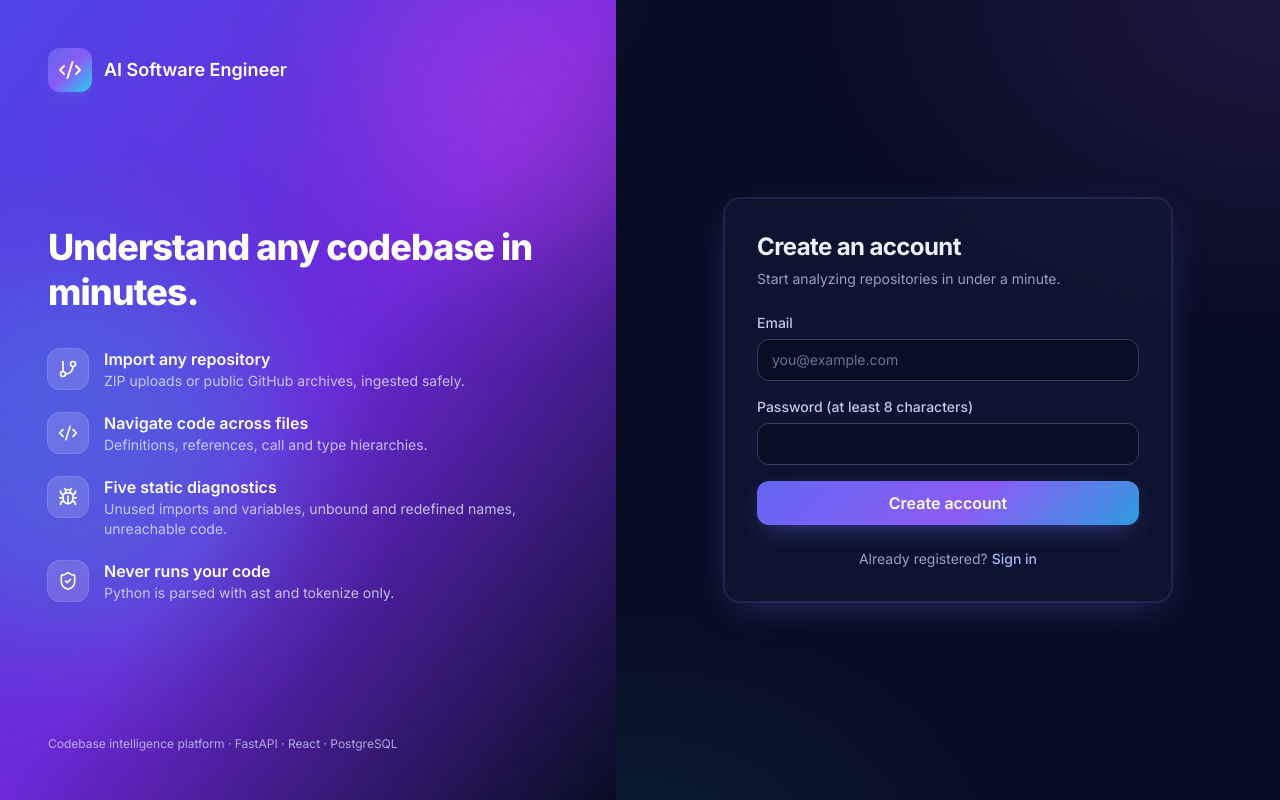
Test: registration › registers, signs in and opens the dashboard
Type "alice@example.com" into the field labelled "Email". click: {"x": 948, "y": 360}
box: [757,339,1139,381]
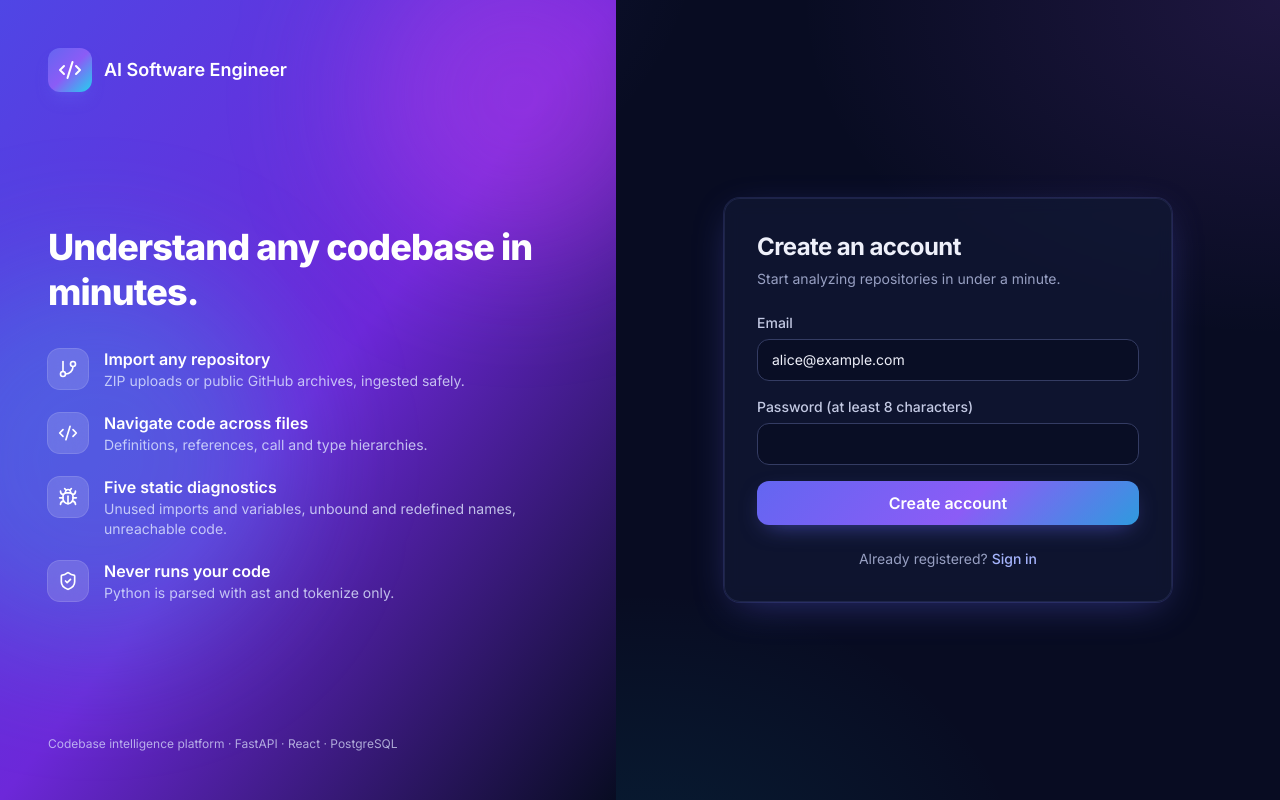
Type "correct-horse-battery" into the password field labelled "Password (at least 8 characters)". click: {"x": 948, "y": 444}
box: [757,423,1139,465]
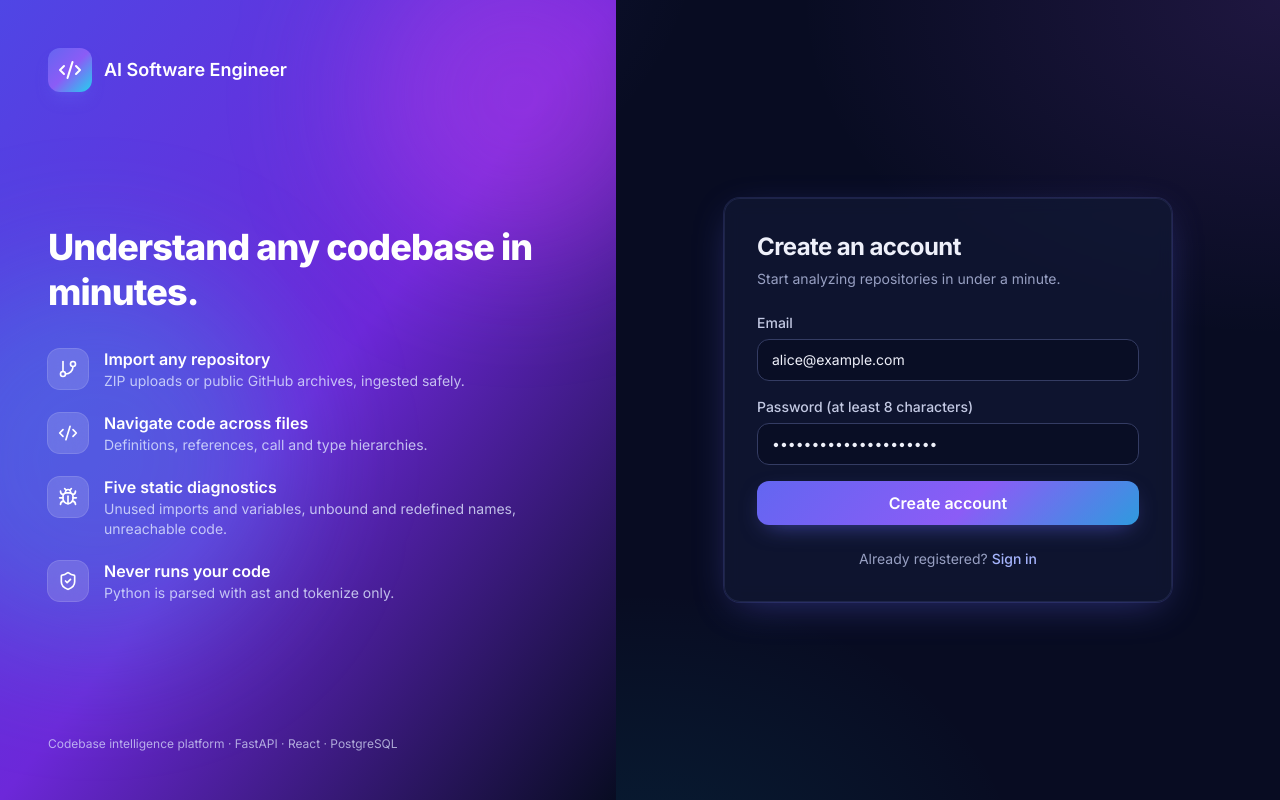
Click the button "Create account". click: {"x": 948, "y": 503}
box: [757,481,1139,525]
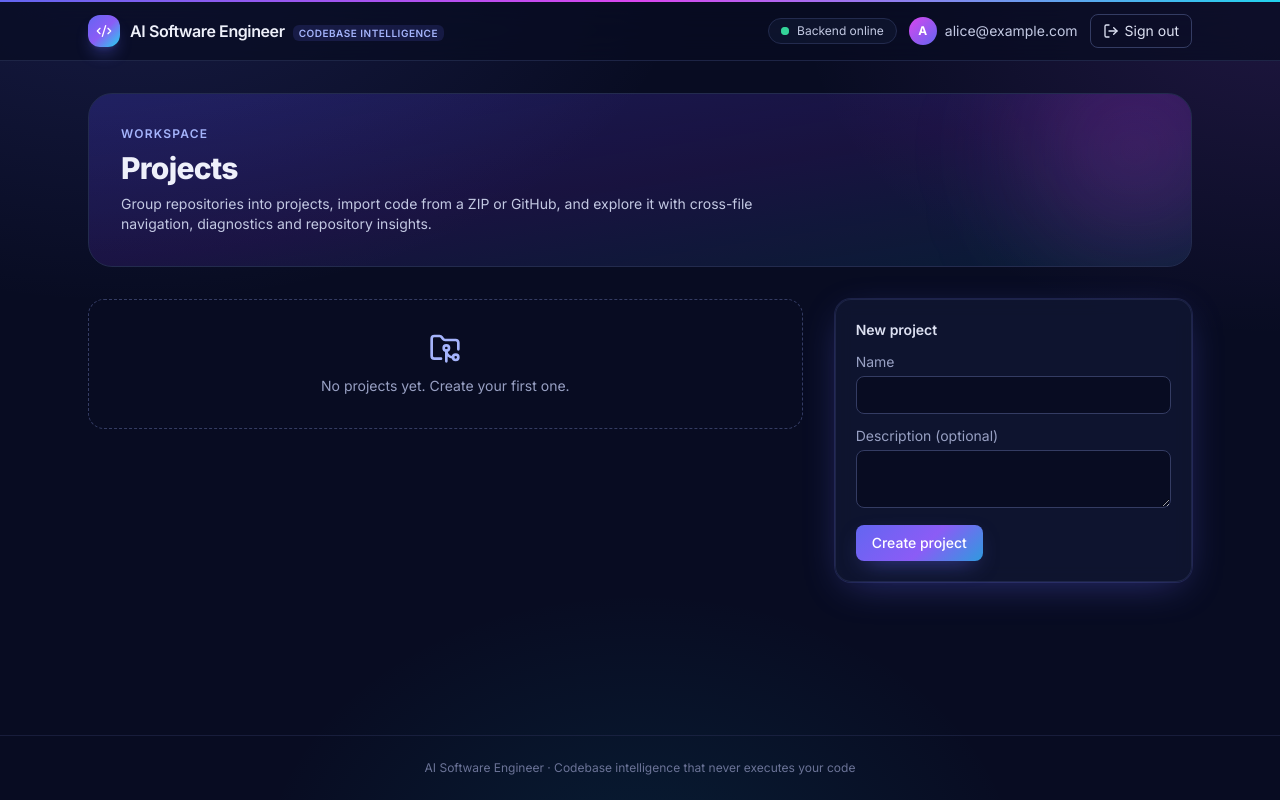
Now the heading "Projects" is shown, box [121,150,238,186]
